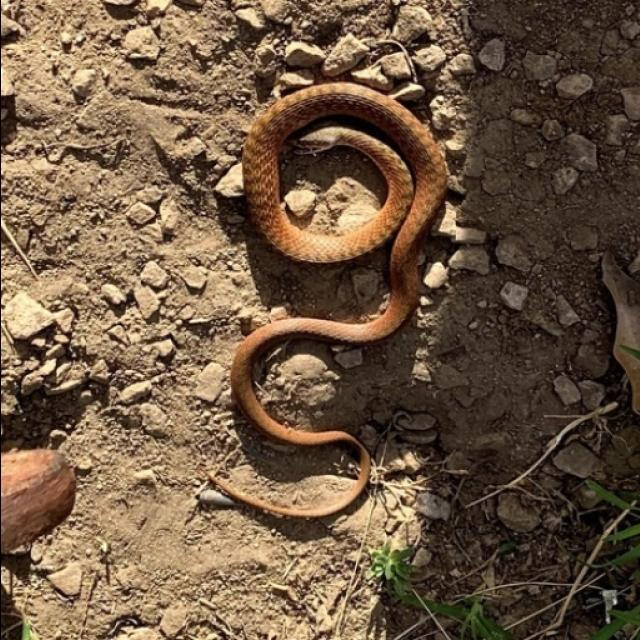snake: (196, 66, 458, 542)
